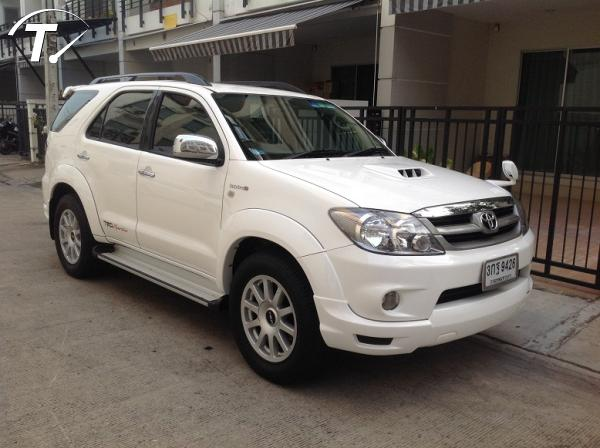pickup: (40, 71, 535, 387)
